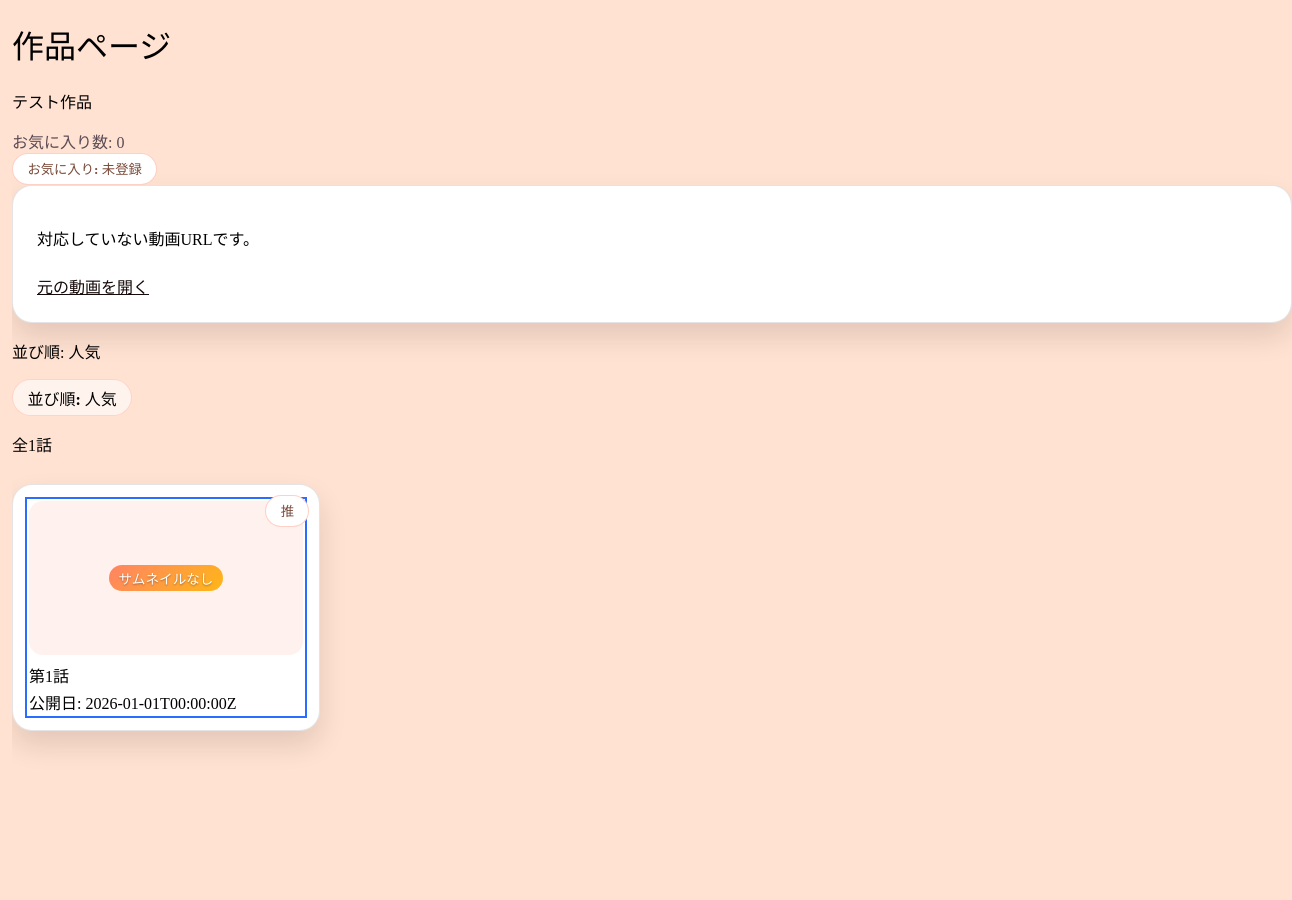
Test: WorkPage state › 推し操作で認証済みなら状態が更新される
Click the button "推": coordinates (287, 511) top-left (265, 495), bottom-right (309, 527)
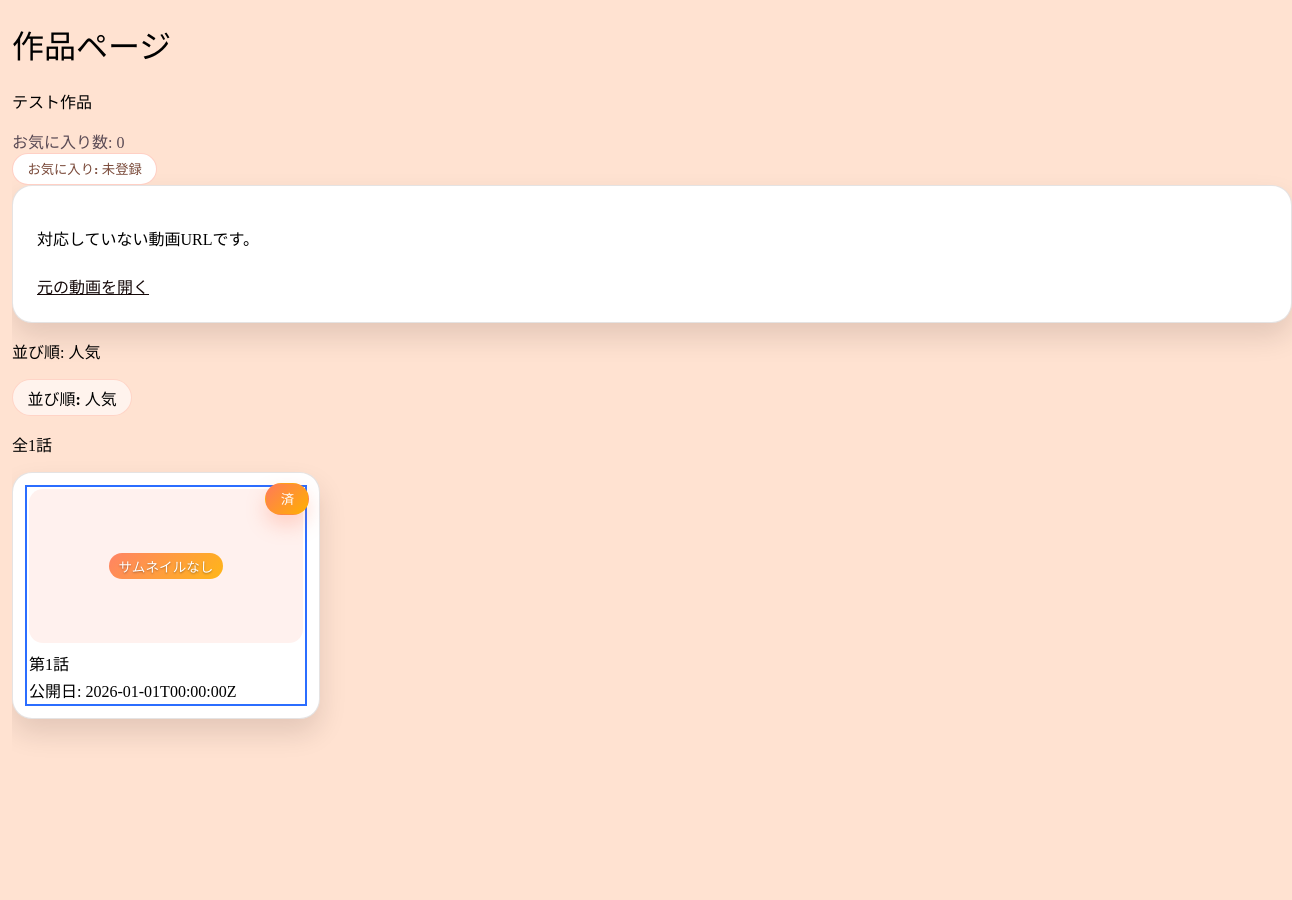
Now the button "済" is shown, box top-left (265, 483), bottom-right (309, 515)
